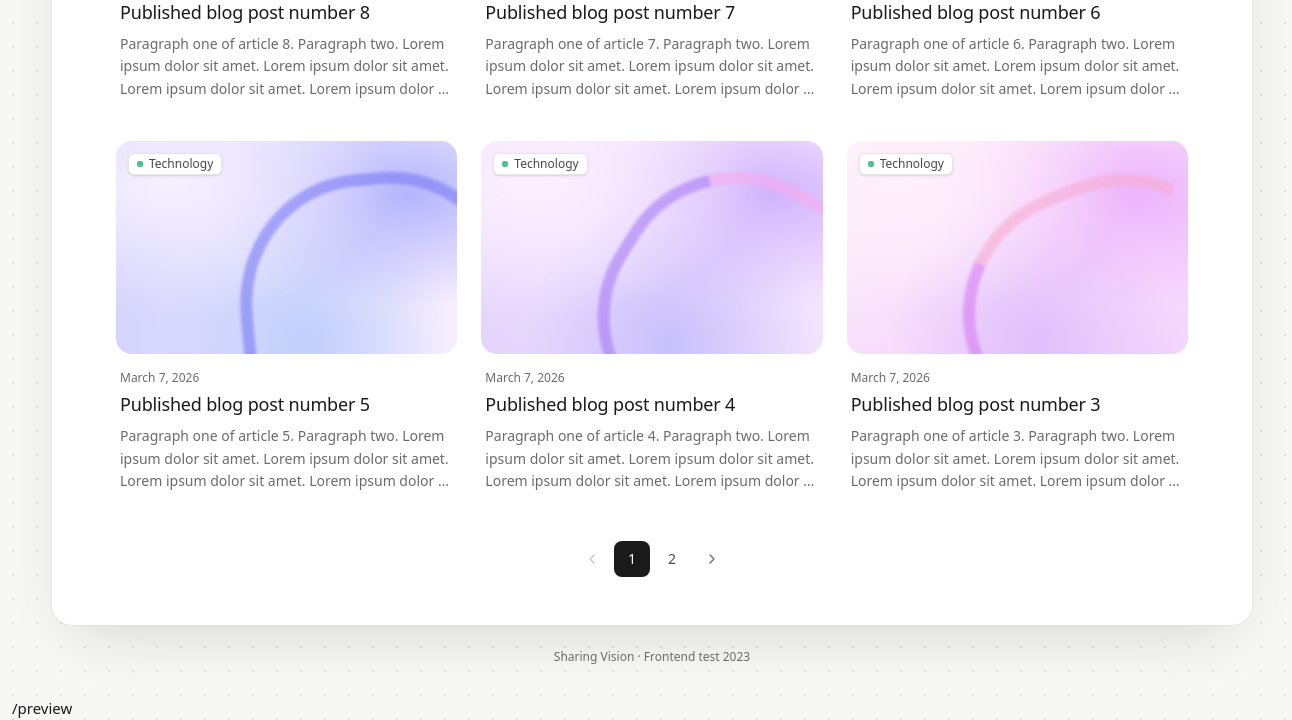
Scenario: Preview page › changes ?page= and the request offset when a page button is clicked
(page scrolled)
Expected: the heading "Published blog post number 8" is shown, 120,0 -> 370,24
What coordinates should you click on to do the following:
click the button named "Page 2"
I would click on:
 (672, 559)
Its box is 654,541 -> 690,577.
(page scrolled)
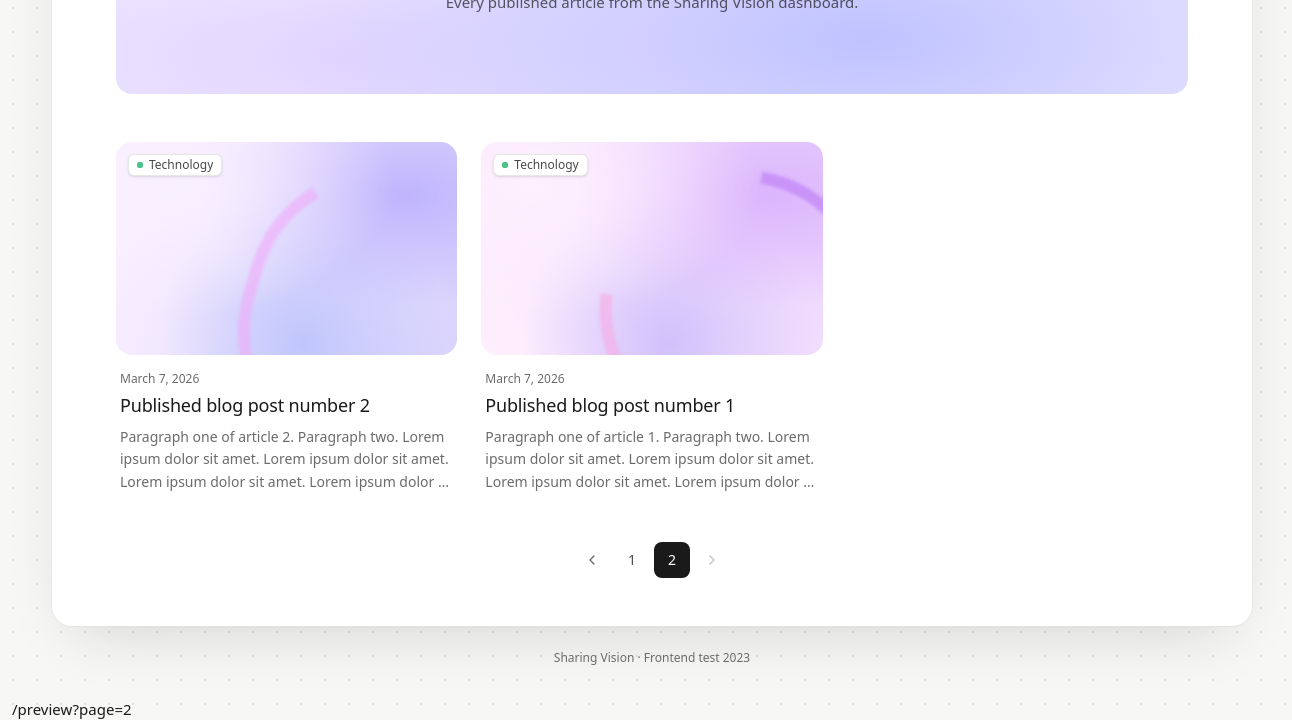
Result: the text with test id "location" reads "/preview?page=2" at 12,699 -> 132,719
Result: the heading "Published blog post number 2" is shown at 120,393 -> 370,417
Result: the link "Published blog post number 8" is gone
